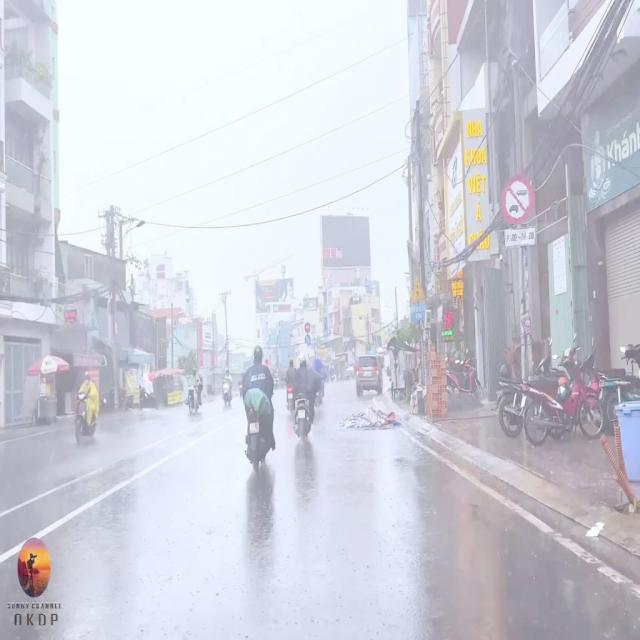102-cam-di-nguoc-chieu: (304, 322, 310, 333)
107-cam-oto-khach-va-oto-tai: (502, 172, 534, 224)
302a-huong-phai-di-vong-chuong-ngai-vat-1: (304, 335, 312, 345)
